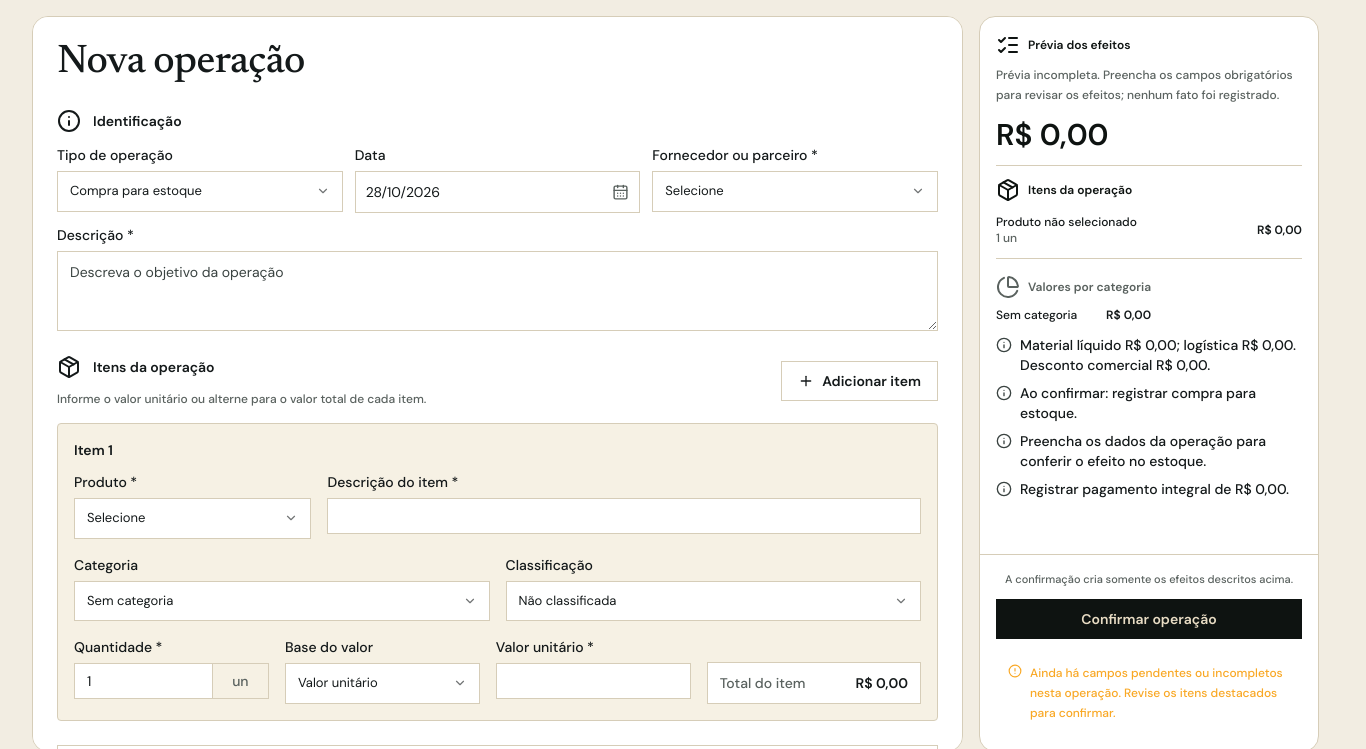
Test: FormOperacao › abre como página e remove campos físicos quando o tipo é serviço
Expected: the heading "Nova operação" is shown, [57,43,305,83]
Step 1. Click the dropdown named "Tipo de operação" → click(200, 191), box [57,171,343,212]
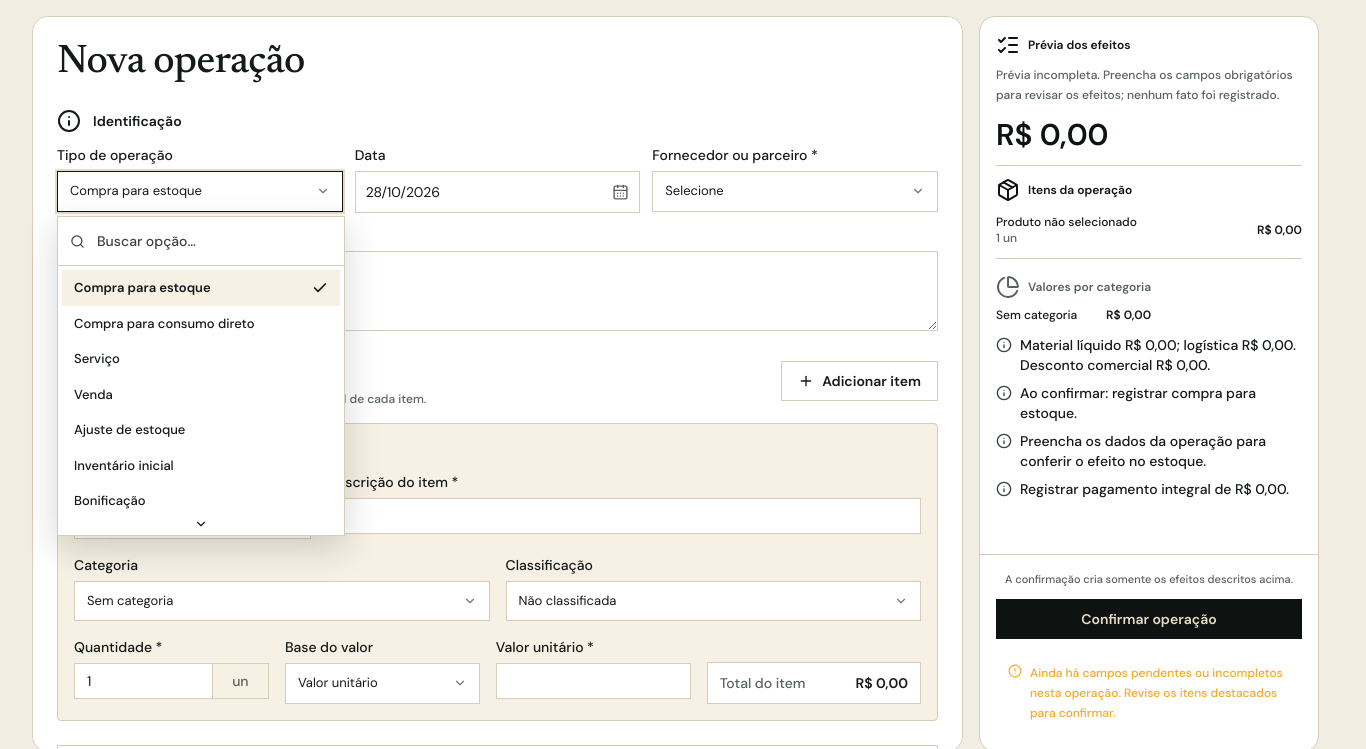
Step 2. Click the option "Serviço" → click(97, 358), box [74,350,120,367]
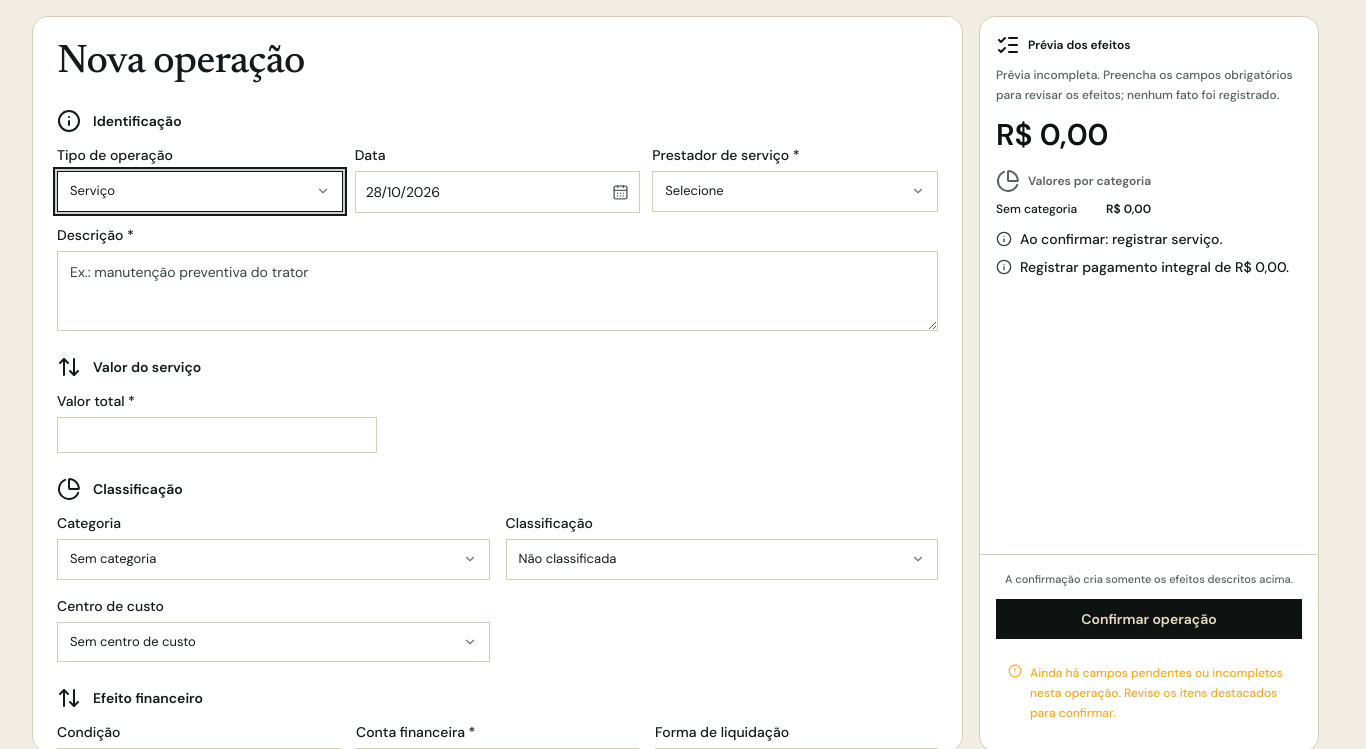
Expected: the number field named "Valor total da operação" is shown, [57,417,377,453]
